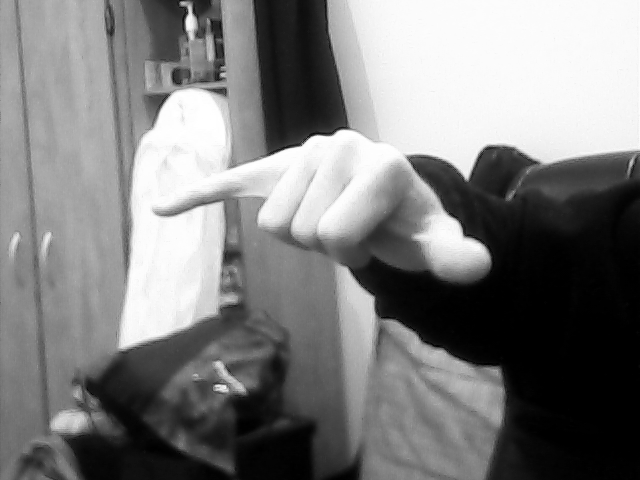aloha: (135, 121, 496, 289)
